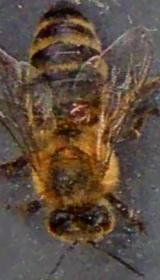varroa_mite: (66, 102, 104, 131)
